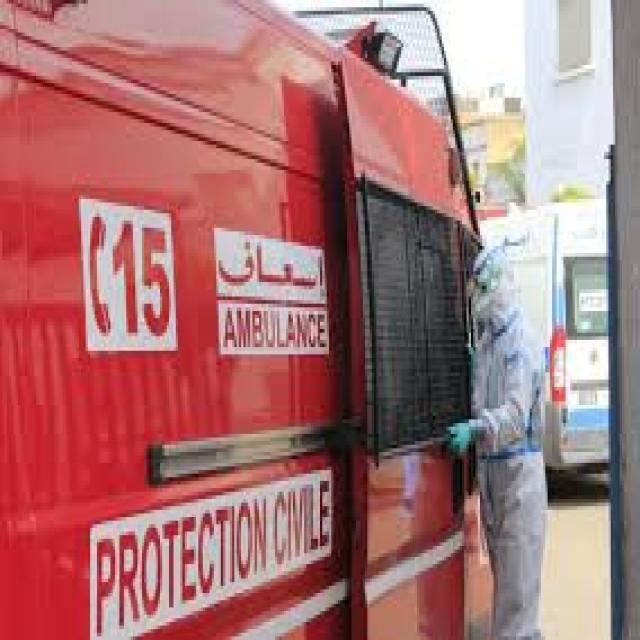ambulance: (6, 6, 474, 640)
